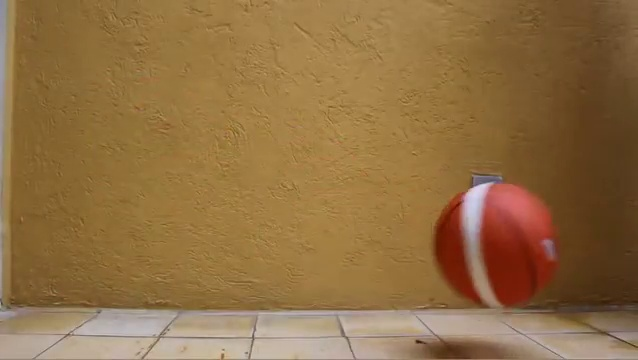ball: (432, 181, 560, 311)
